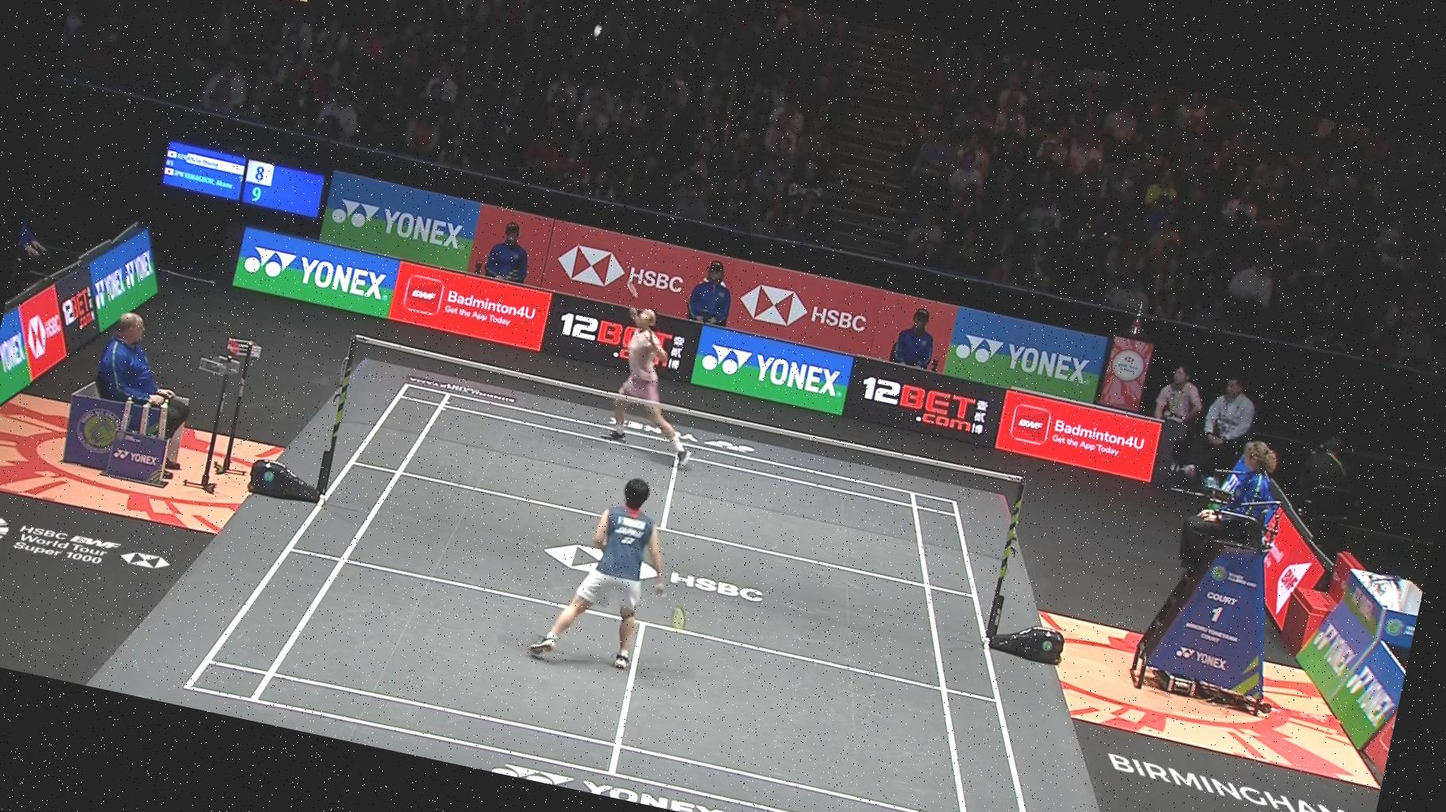Player 1: (577, 264, 734, 479)
Player 2: (524, 462, 725, 702)
shuttle: (586, 19, 607, 50)
